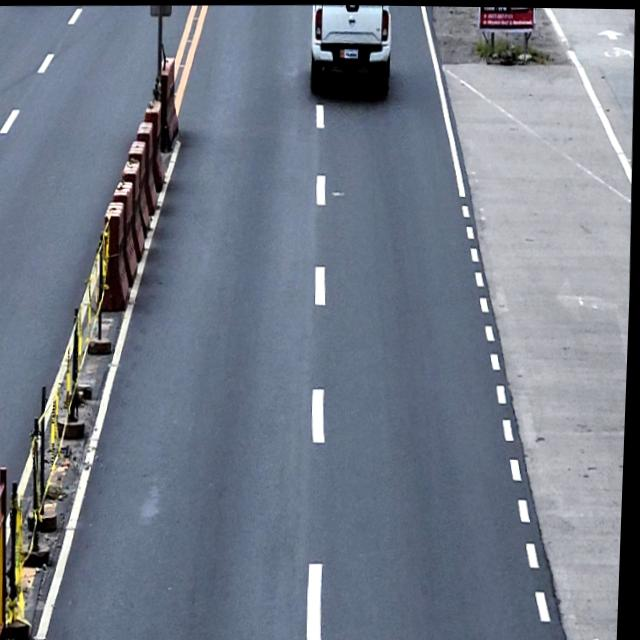Car: (307, 4, 393, 94)
License-Plate: (339, 44, 359, 59)
